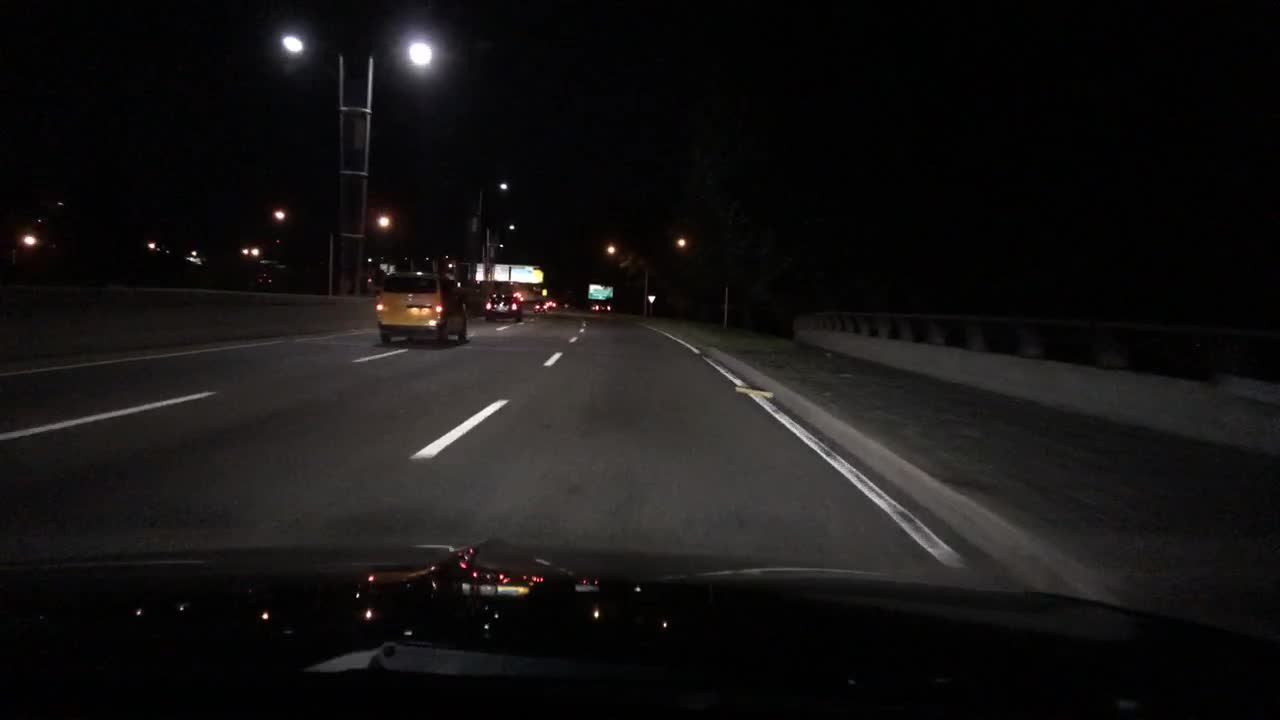car: (373, 266, 469, 347), (482, 288, 521, 326), (590, 299, 611, 314), (531, 300, 548, 314), (543, 299, 557, 310)
traffic sign: (585, 283, 612, 300)
